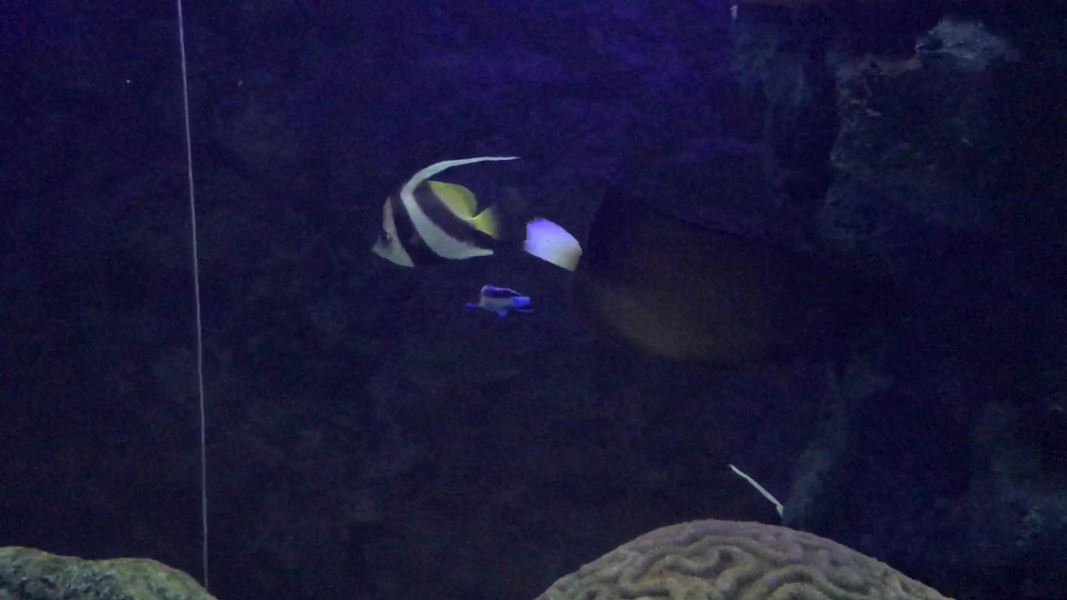Blue ring angelfish: (510, 166, 938, 414)
